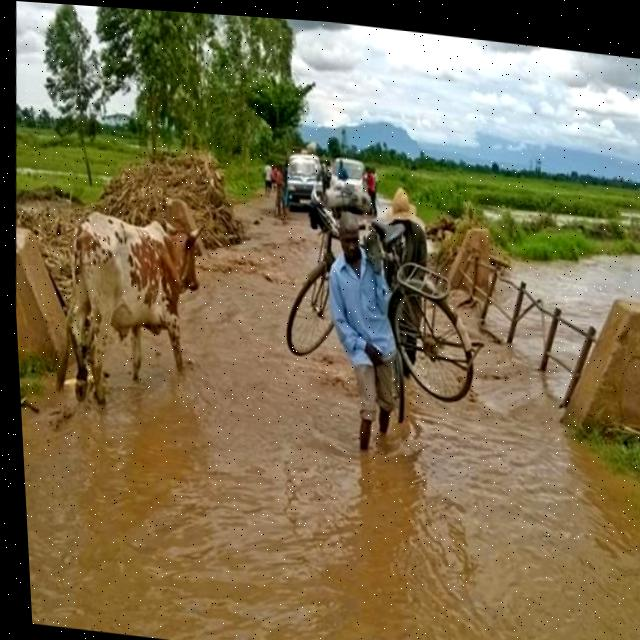civilian: (307, 199, 422, 463), (363, 160, 381, 215), (274, 161, 291, 219), (256, 159, 278, 201), (368, 160, 385, 195), (334, 156, 351, 182)
cow: (35, 195, 231, 428)
